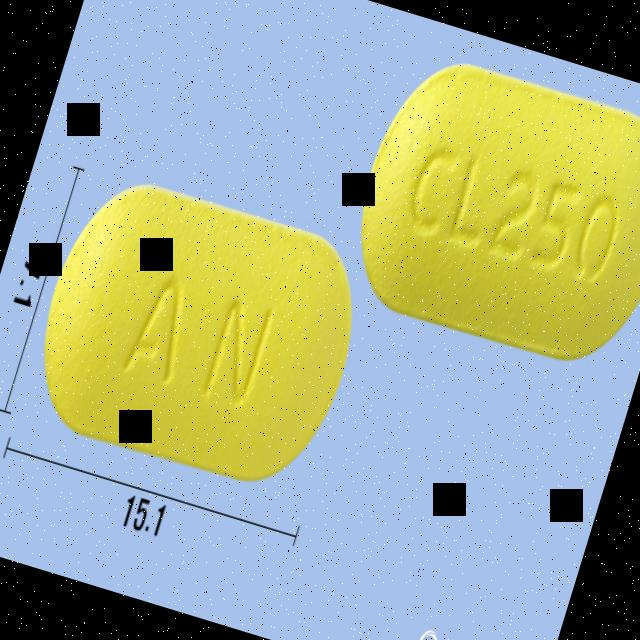New Clato Tab: (16, 166, 376, 500), (333, 42, 640, 380)
